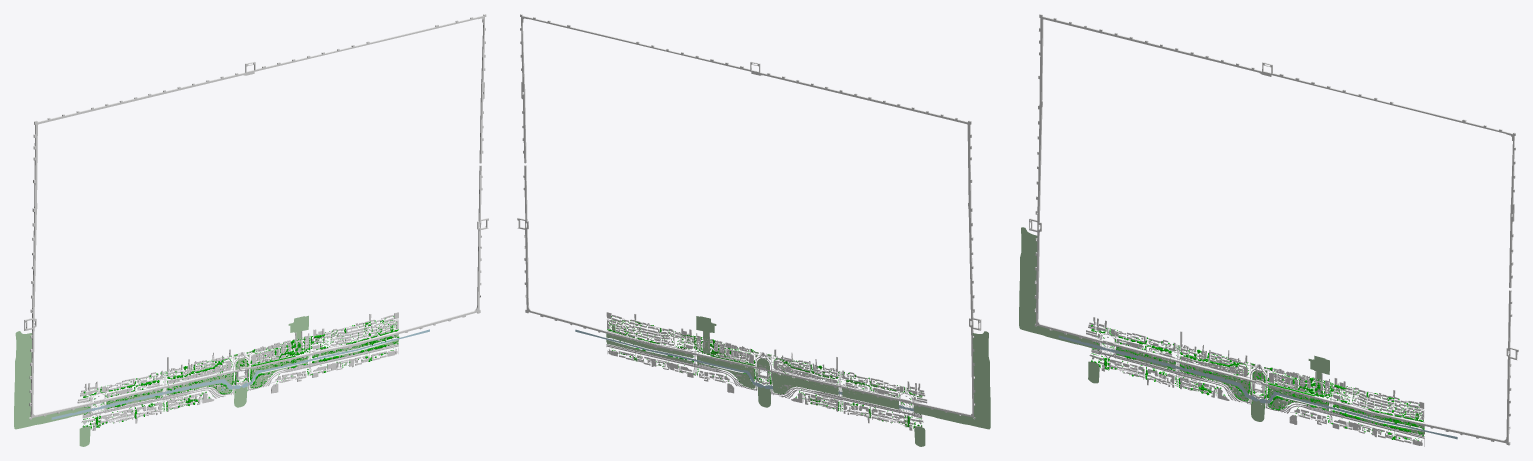
3 views of the same model, side by side, from view 1: azimuth 30°, elevation 25°; view 2: azimuth 150°, elevation 25°; view 3: azimuth 330°, elevation 25° (orthographic). The views are drawn at different scales.
Parts seen in each view (by area): view 1: TPX_Buildings, TPX_GreenAreas, TPX_RoadsOutlines, TPX_Waterways_1; view 2: TPX_Buildings, TPX_GreenAreas, TPX_RoadsOutlines, TPX_Waterways_1; view 3: TPX_Buildings, TPX_GreenAreas, TPX_RoadsOutlines, TPX_Waterways_1.
Part boxes in pixels (<box>): TPX_Buildings: <box>24,14,488,430</box>; TPX_GreenAreas: <box>14,315,398,446</box>; TPX_RoadsOutlines: <box>82,318,398,425</box>; TPX_Waterways_1: <box>51,329,429,419</box>; TPX_Buildings: <box>517,14,981,430</box>; TPX_GreenAreas: <box>606,316,990,446</box>; TPX_RoadsOutlines: <box>606,318,921,427</box>; TPX_Waterways_1: <box>575,329,913,411</box>; TPX_Buildings: <box>1029,14,1518,445</box>; TPX_GreenAreas: <box>1019,227,1424,435</box>; TPX_RoadsOutlines: <box>1091,327,1424,446</box>; TPX_Waterways_1: <box>1058,335,1457,439</box>.
Bounding box in the file's own units: 4475 × 3101 × 29.
